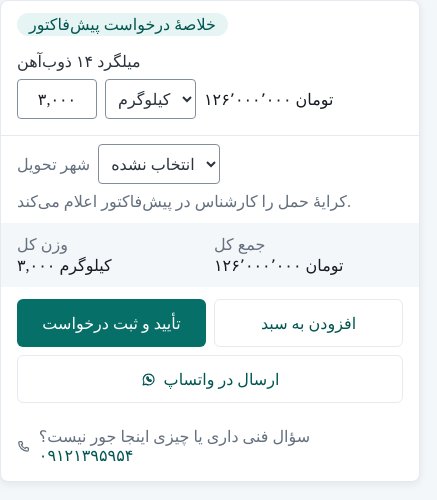
ProformaCard — actions › pushes every line into the cart with its server-priced figures
The image size is (437, 500).
Click the button "افزودن به سبد" at {"x": 308, "y": 323}, box left=214, top=299, right=403, bottom=347
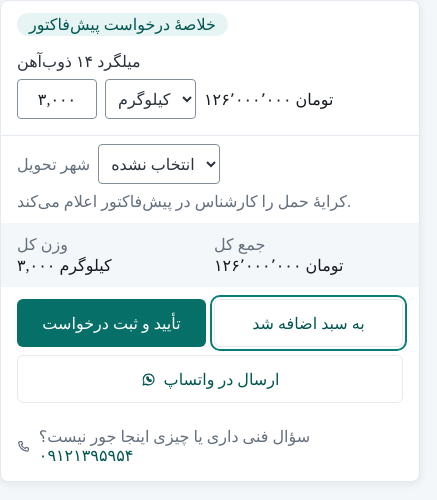
Expected: the button "به سبد اضافه شد" is shown, left=214, top=299, right=403, bottom=347
